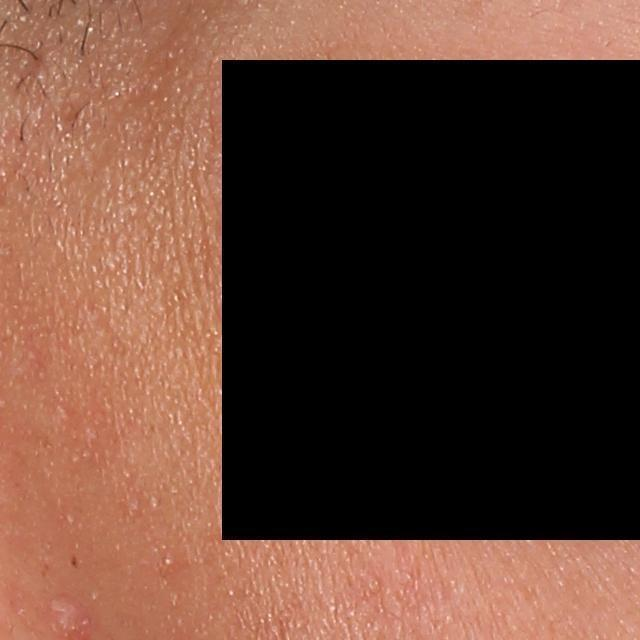nevus: (68, 555, 79, 570)
